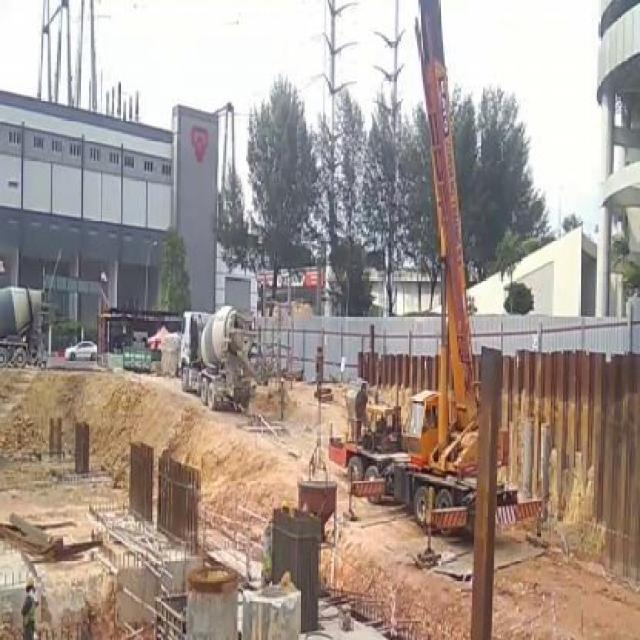Mobile Crane: (328, 0, 555, 566)
